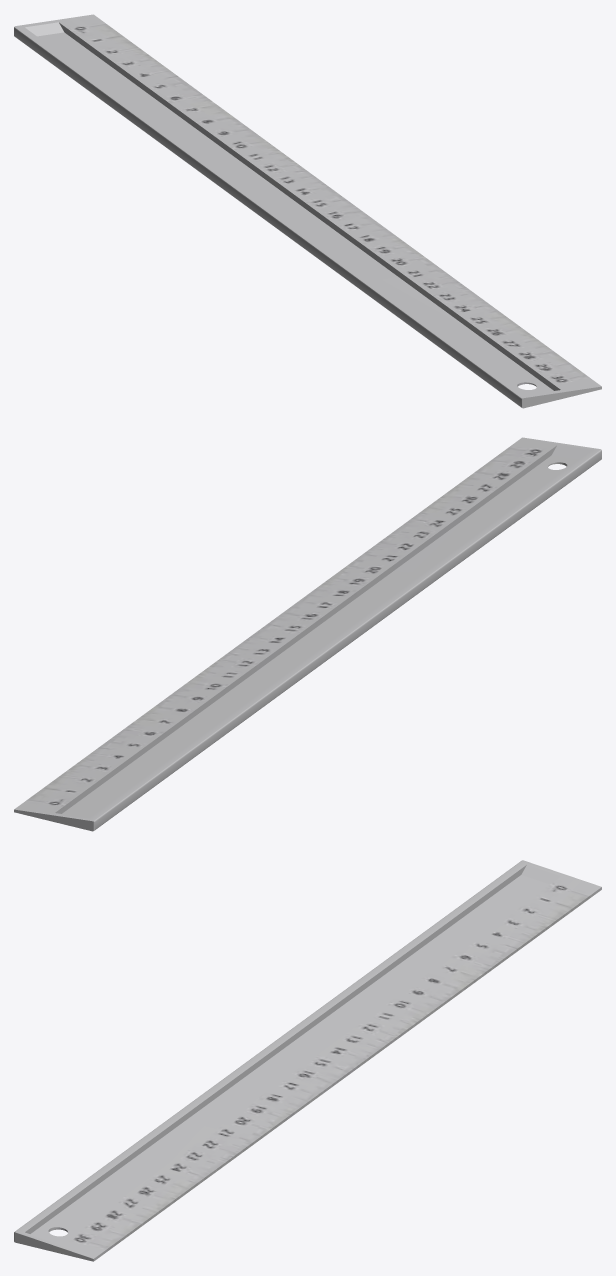
Rendered from metal-ruler.glb.
3 views of the same model, one above another, from view 1: azimuth 30°, elevation 25°; view 2: azimuth 150°, elevation 25°; view 3: azimuth 330°, elevation 25° (orthographic).
Visible parts, largest first — view 1: Object_0; view 2: Object_0; view 3: Object_0.
Part boxes in pixels (bbox=[...]): Object_0: bbox=[14, 14, 601, 408]; Object_0: bbox=[14, 437, 601, 831]; Object_0: bbox=[14, 860, 601, 1261].
Bounding box in the file's own units: 0.0274 × 0.00333 × 0.3.
Materials: 1 (1 with a texture image).
